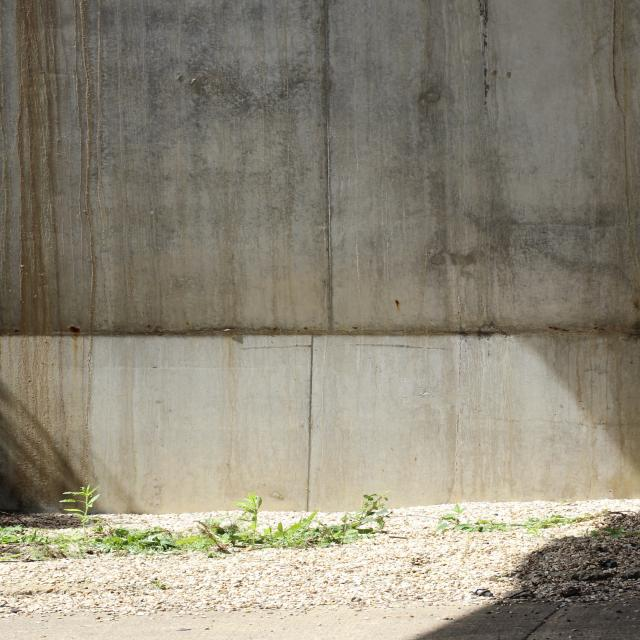corrosion: (142, 207, 580, 500), (1, 1, 130, 490), (575, 0, 640, 506)
